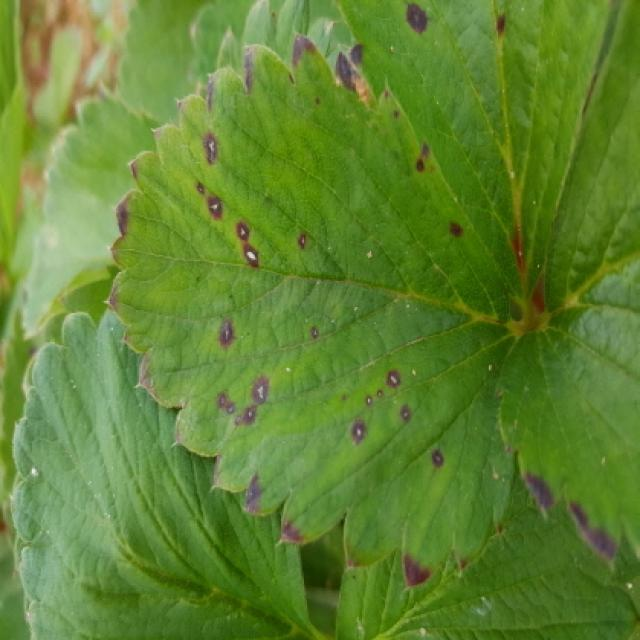Leaf Spot: (102, 32, 527, 593), (333, 0, 614, 311)
